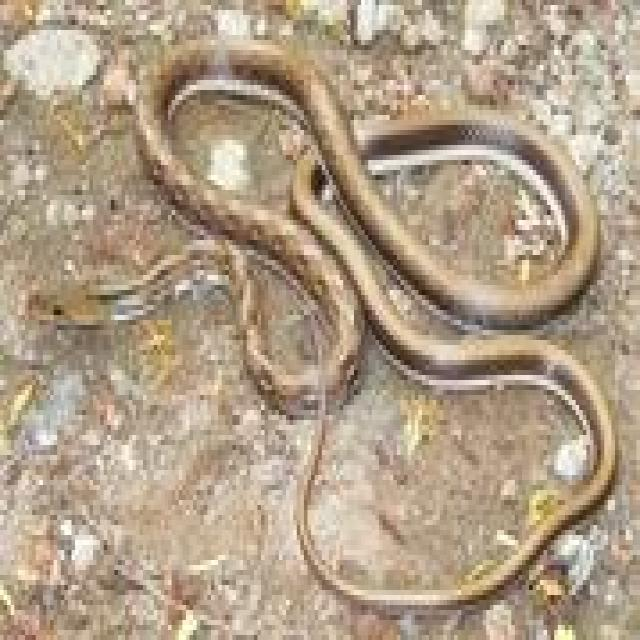Snake: (128, 30, 618, 615)
